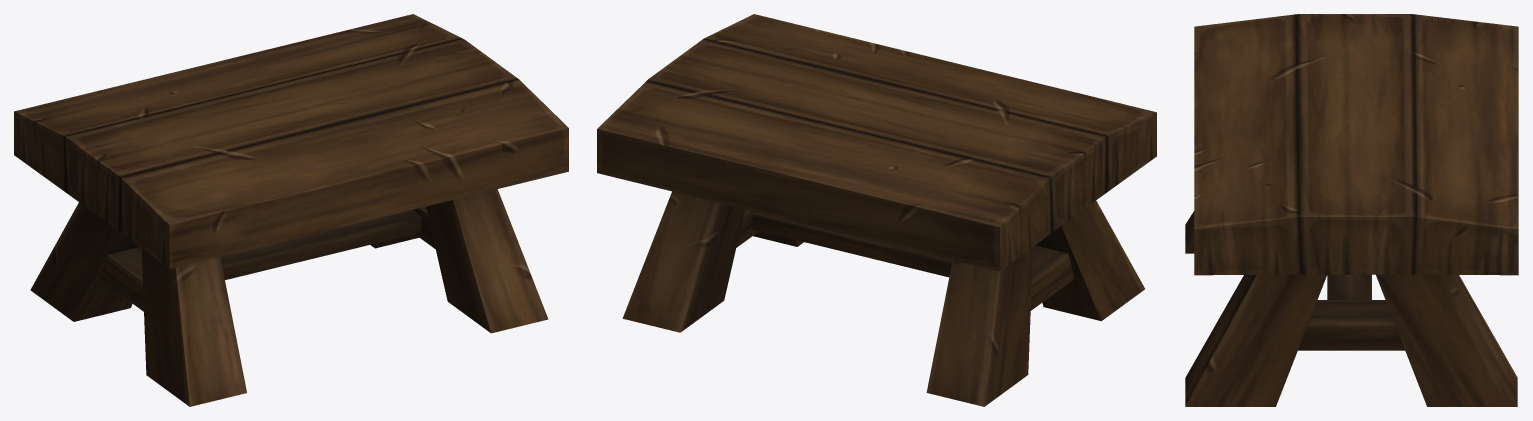
File: modelTable.fbx
3 renders of one model, left to right at view 1: azimuth 30°, elevation 25°; view 2: azimuth 150°, elevation 25°; view 3: azimuth 270°, elevation 25°, orthographic. The views are drawn at different scales.
Visible parts, largest first — view 1: modelTable; view 2: modelTable; view 3: modelTable.
Boxes of the visible parts, <box> form: modelTable: <box>14,14,568,406</box>; modelTable: <box>597,14,1156,406</box>; modelTable: <box>1185,14,1518,406</box>.
Size of the model in its own units: 20.86 by 9.71 by 14.48.
